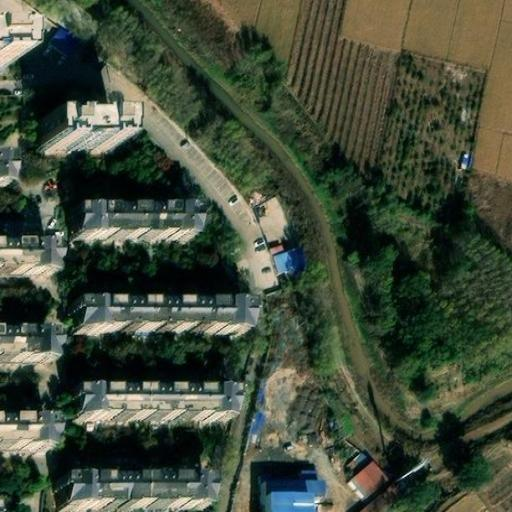building: (473, 5, 512, 176), (71, 304, 246, 333), (71, 392, 232, 421), (59, 478, 208, 509), (348, 456, 408, 512), (74, 210, 192, 237), (33, 123, 111, 150), (0, 247, 54, 277), (0, 334, 45, 367), (0, 422, 41, 450), (270, 243, 303, 275), (263, 478, 323, 495), (0, 159, 15, 191)
